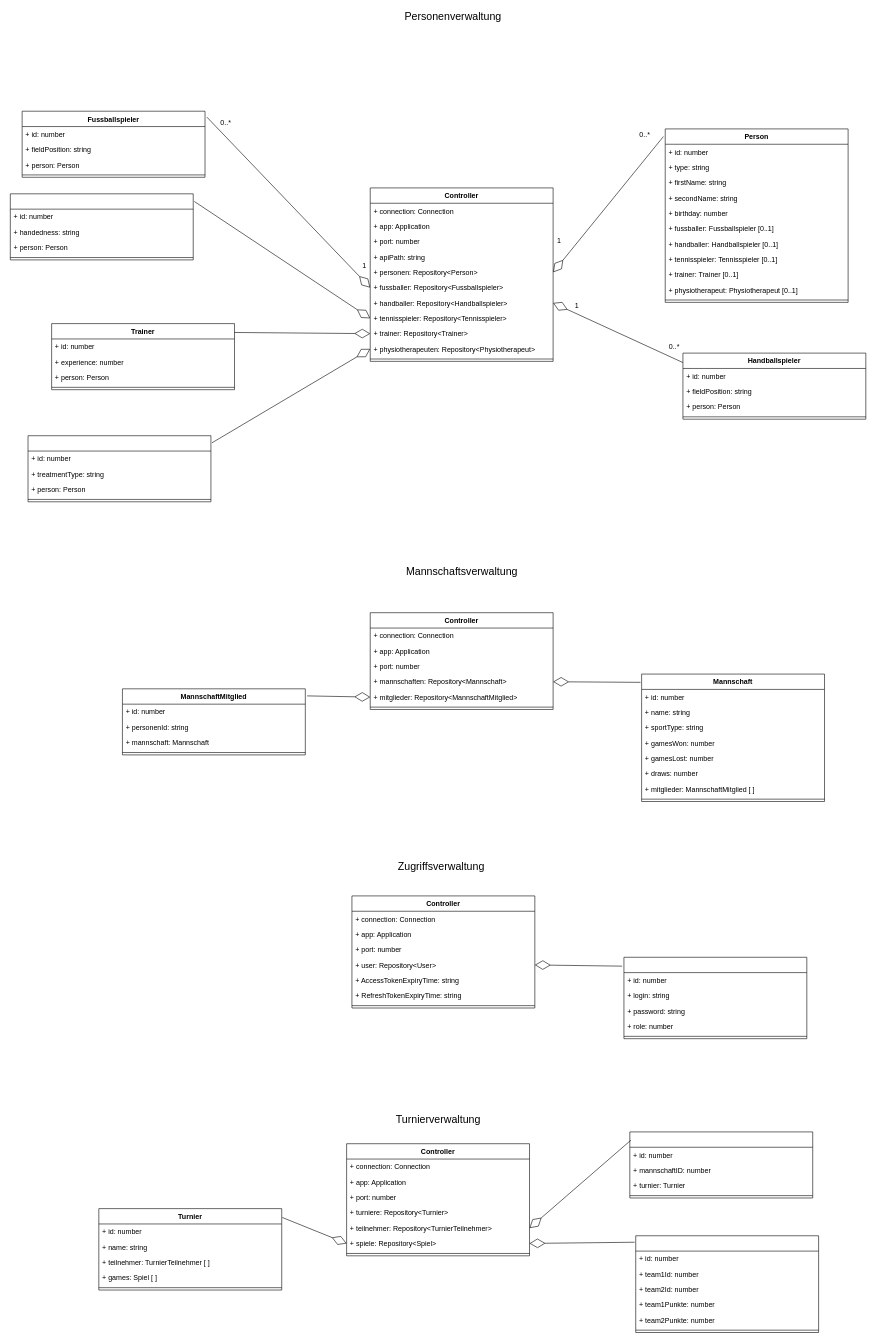
This 876x1343 diagram has some shape labels left out. The shapes that lost their labels are listed below. From the top down, each one's box as (x1, y1, x2, y2) in pixels, then its label:
(10, 193, 193, 260): Tennisspieler
(27, 435, 211, 502): Physiotherapeut
(623, 957, 807, 1039): User
(629, 1131, 813, 1198): TurnierTeilnehmer
(635, 1235, 819, 1333): Spiel
